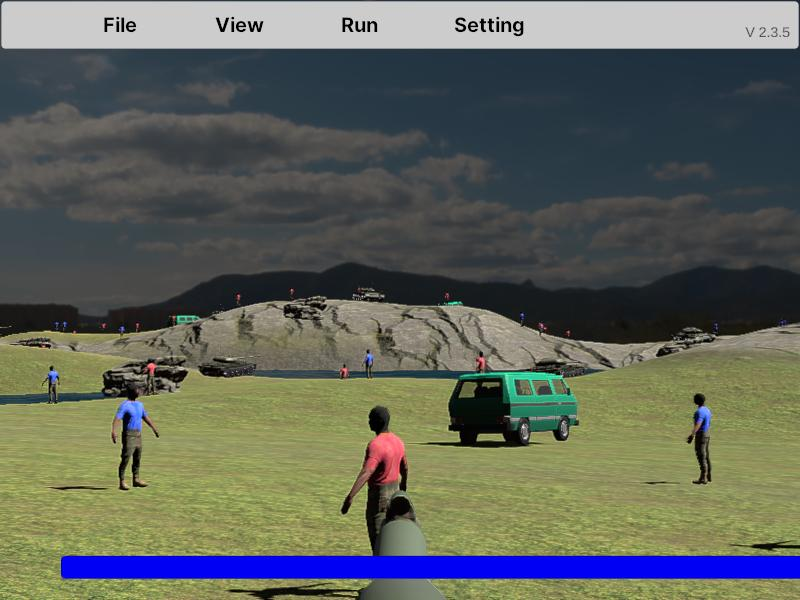Human: (341, 404, 408, 586), (111, 384, 159, 490), (687, 394, 711, 485), (42, 365, 61, 405)
Tank: (199, 354, 259, 378)
car: (448, 371, 579, 447)
